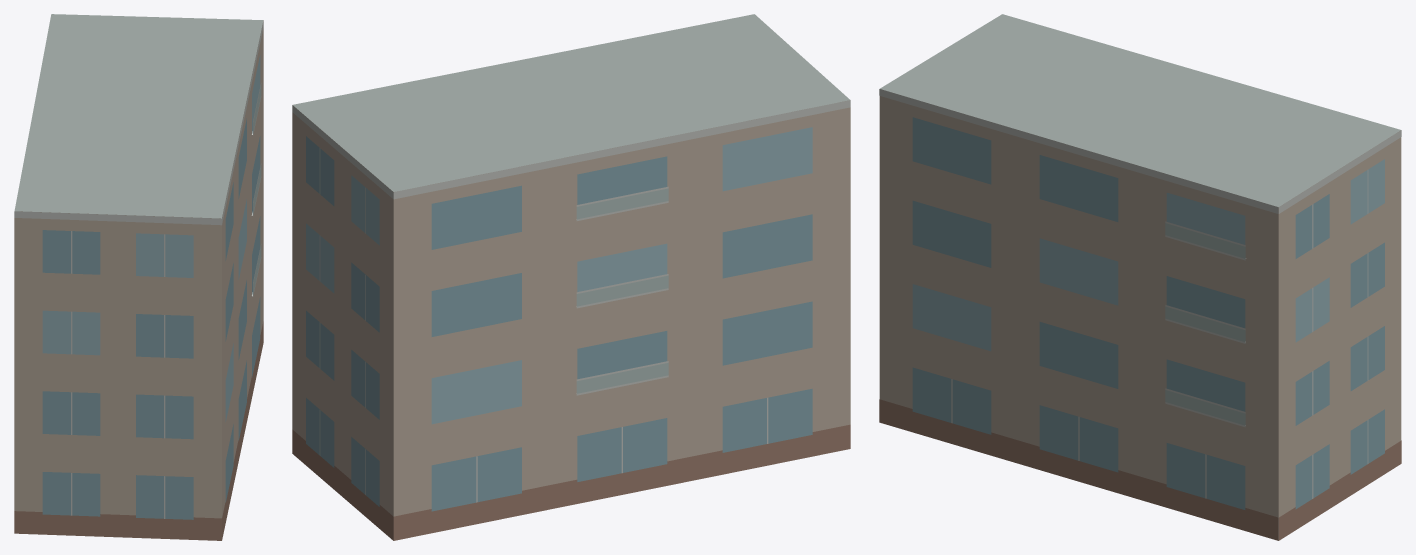
Rendered from survey-upis-32979082.glb.
3 views of the same model, side by side, from view 1: azimuth 30°, elevation 25°; view 2: azimuth 150°, elevation 25°; view 3: azimuth 270°, elevation 25° (orthographic). The views are drawn at different scales.
Parts seen in each view (by area): view 1: survey-upis-32979082.tmp; view 2: survey-upis-32979082.tmp; view 3: survey-upis-32979082.tmp.
Boxes of the visible parts, x1,y1,x2,y2 form: survey-upis-32979082.tmp: (14, 14, 263, 540); survey-upis-32979082.tmp: (292, 14, 850, 540); survey-upis-32979082.tmp: (879, 14, 1401, 540).
Bounding box in the file's own units: 14.54 × 11.7 × 16.59.
